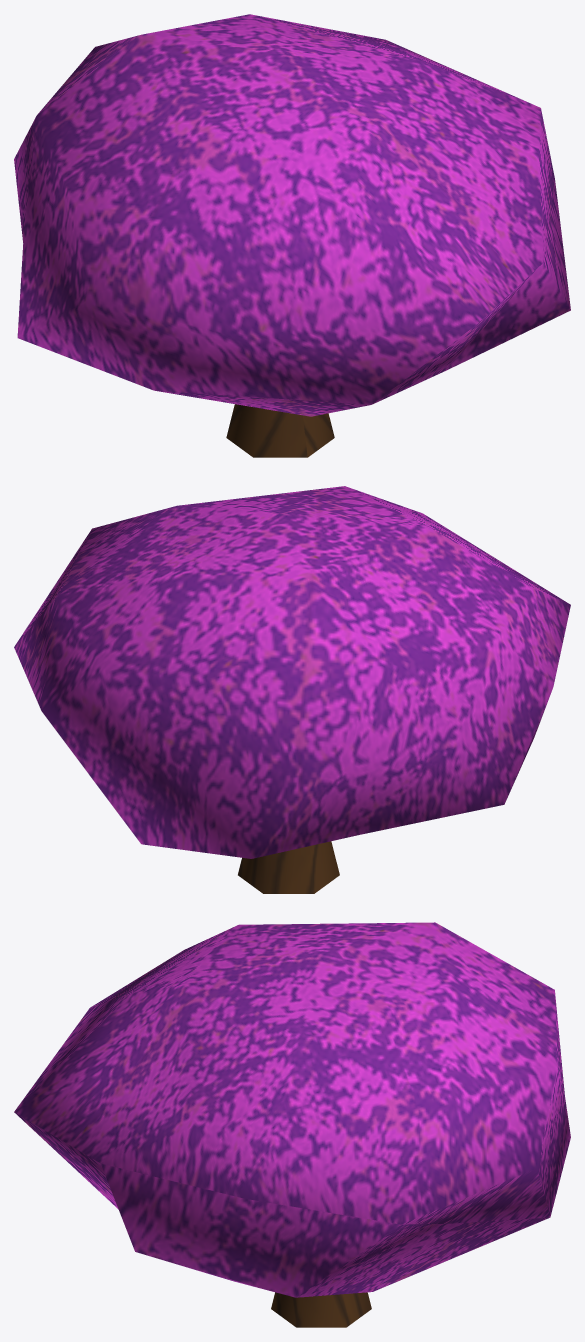
File: arbusto.fbx
3 views of the same model, one above another, from view 1: azimuth 30°, elevation 25°; view 2: azimuth 150°, elevation 25°; view 3: azimuth 270°, elevation 25° (orthographic). The views are drawn at different scales.
Parts seen in each view (by area): view 1: Icosphere.015; view 2: Icosphere.015; view 3: Icosphere.015.
Boxes of the visible parts, box(x1,y1,x2,y2) form: Icosphere.015: box(14, 14, 570, 457); Icosphere.015: box(14, 486, 570, 893); Icosphere.015: box(14, 922, 570, 1327).
Size of the model in its own units: 256 by 189 by 268.
